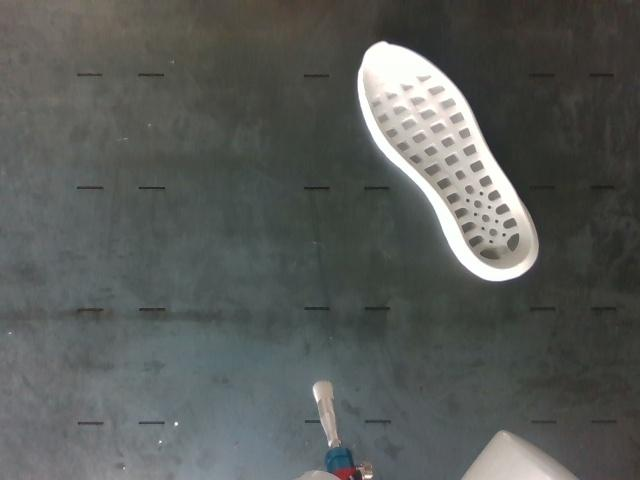shoes: (363, 43, 531, 270)
